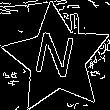N_S: (33, 30, 81, 88)
